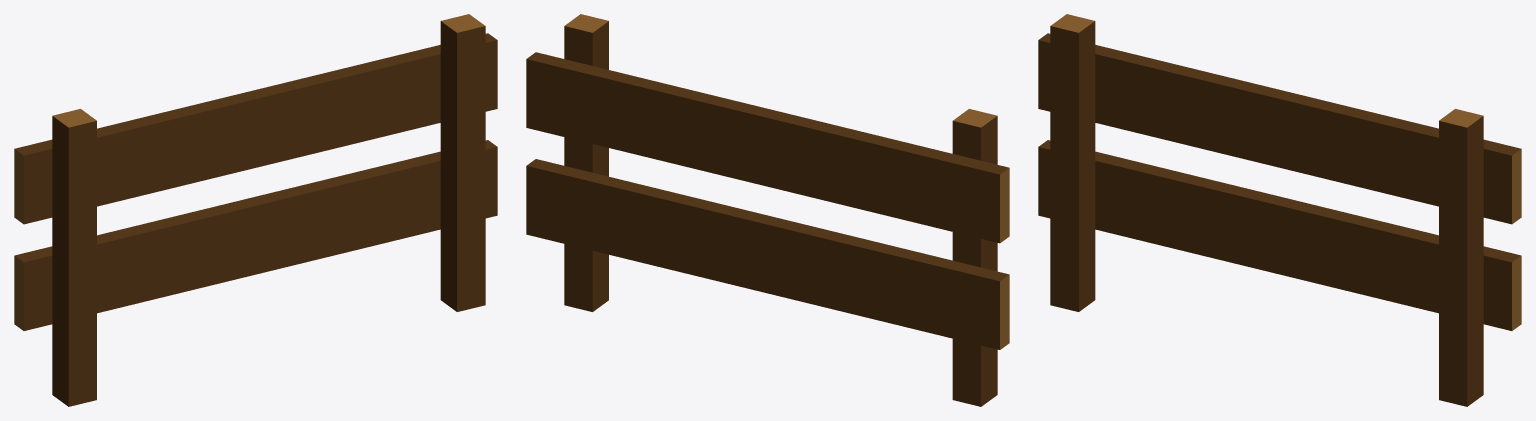
The model's file is CityFence_01.fbx.
3 renders of one model, left to right at view 1: azimuth 30°, elevation 25°; view 2: azimuth 150°, elevation 25°; view 3: azimuth 330°, elevation 25°, orthographic.
Parts seen in each view (by area): view 1: CityFence_01; view 2: CityFence_01; view 3: CityFence_01.
Part boxes in pixels (bbox=[...]): CityFence_01: bbox=[14, 14, 497, 406]; CityFence_01: bbox=[526, 14, 1009, 406]; CityFence_01: bbox=[1038, 14, 1521, 406].
Bounding box in the file's own units: 0.3333 × 0.1878 × 0.0315.
